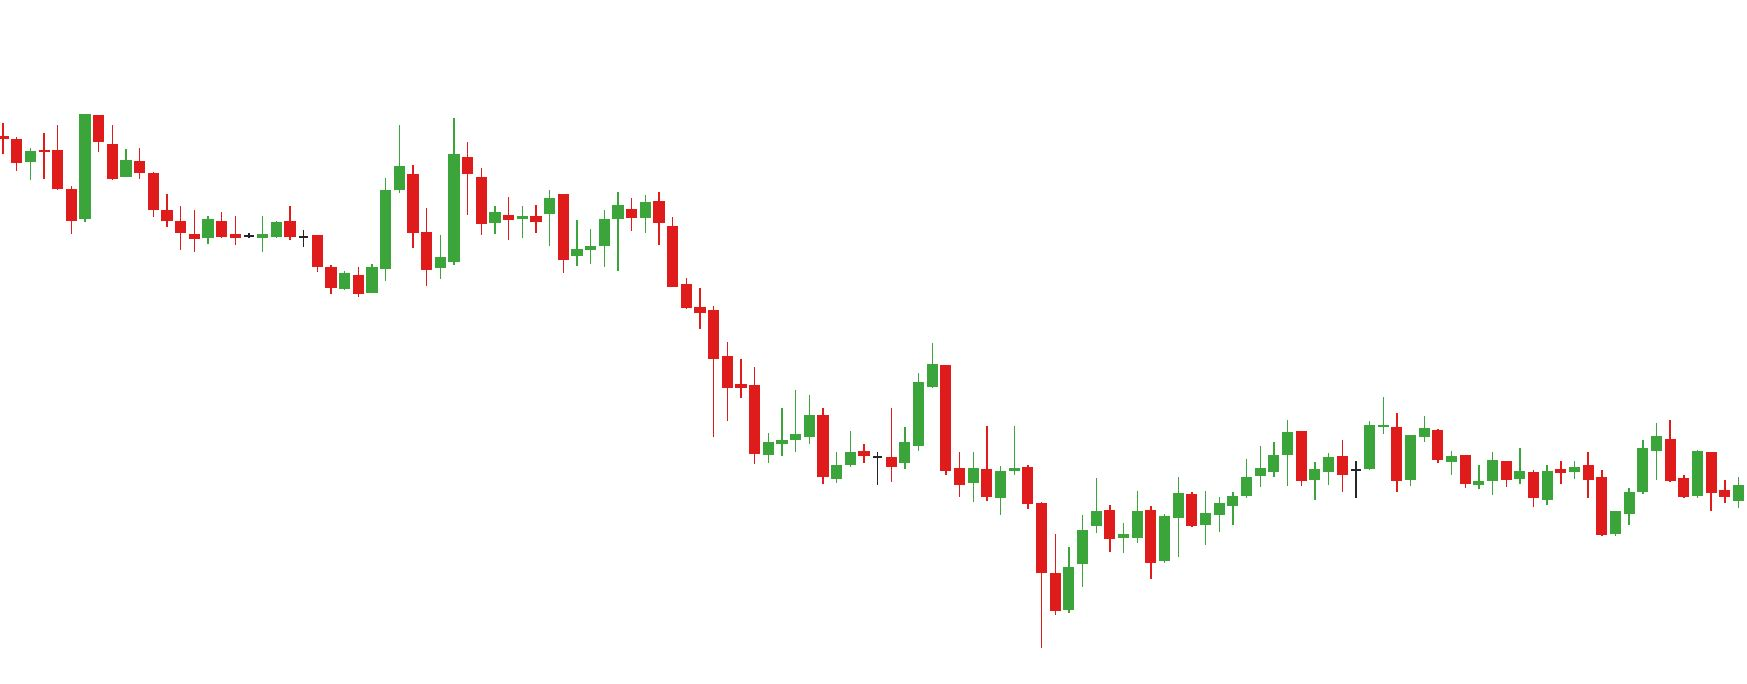sell: (788, 344, 953, 441), (392, 118, 477, 240)
